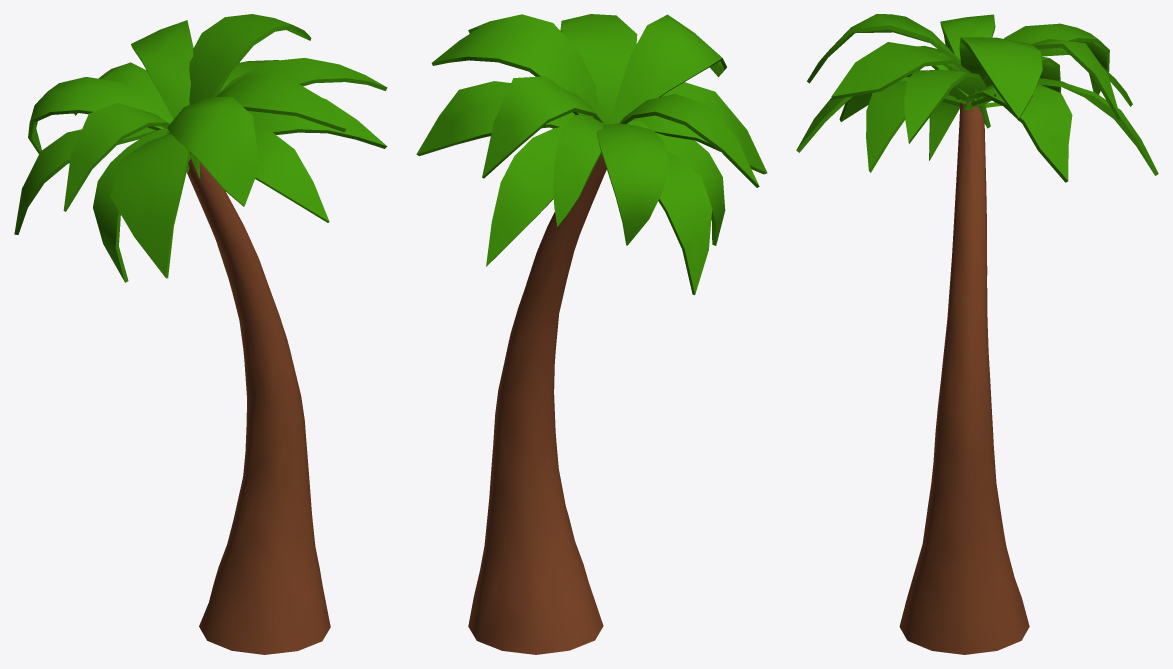
Rendered from Palm_new.FBX.
The picture shows the model from 3 angles, left to right: view 1: azimuth 30°, elevation 25°; view 2: azimuth 150°, elevation 25°; view 3: azimuth 270°, elevation 25°; orthographic projection. The views are drawn at different scales.
Visible parts, largest first — view 1: palm; view 2: palm; view 3: palm.
Part boxes in pixels (x1=…): palm: x1=14, y1=14, x2=387, y2=654; palm: x1=416, y1=14, x2=767, y2=654; palm: x1=796, y1=14, x2=1158, y2=654.
Size of the model in its own units: 476307 by 892034 by 498241.
